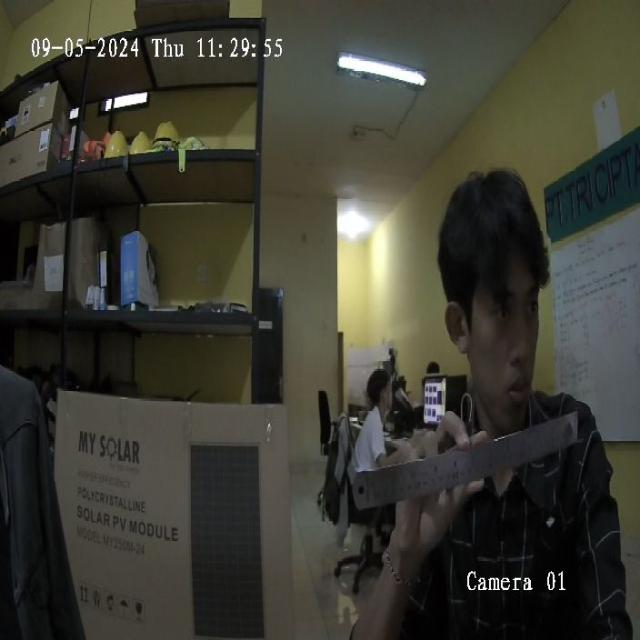Ruler: (355, 413, 576, 508)
